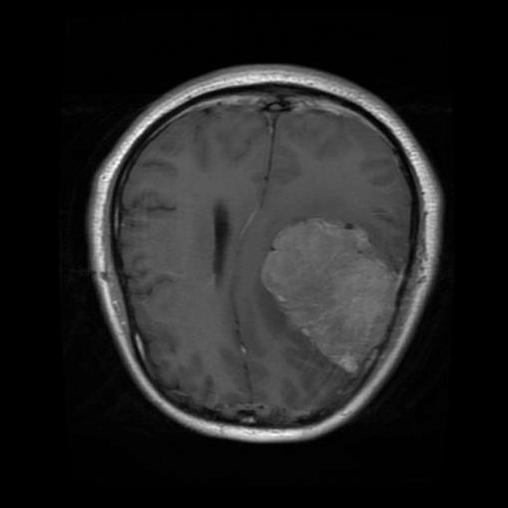Tumour-Pituitary: (250, 198, 407, 377)
